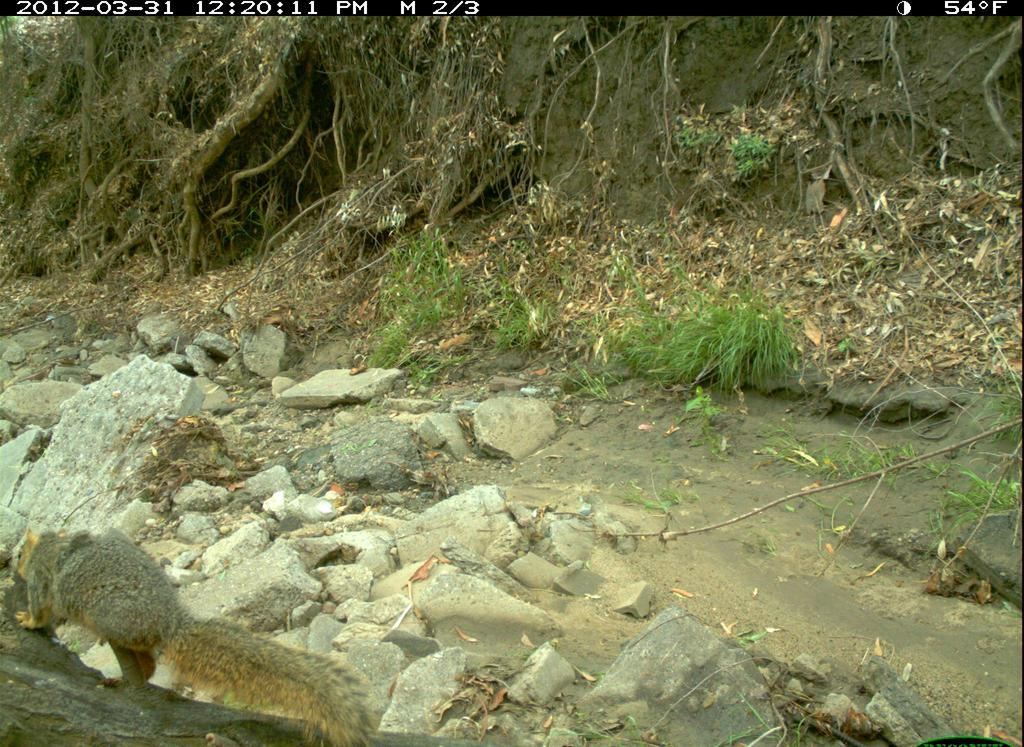squirrel: (15, 525, 378, 747)
